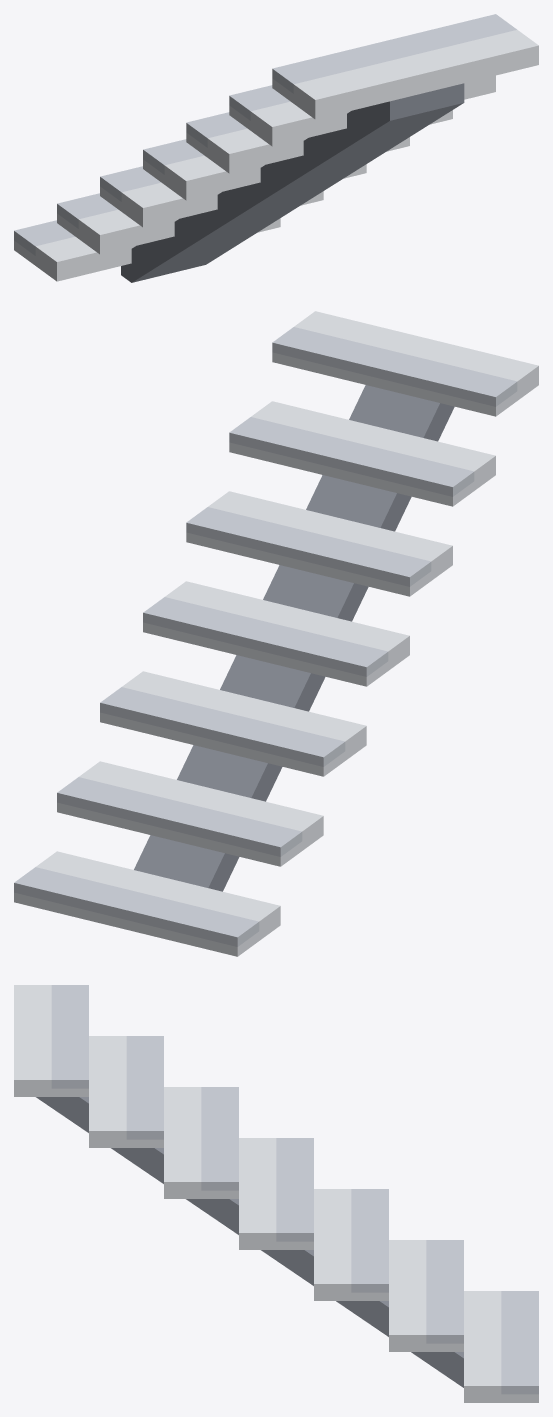
File: stairs.glb
The picture shows the model from 3 angles, top to bottom: view 1: azimuth 30°, elevation 25°; view 2: azimuth 150°, elevation 25°; view 3: azimuth 270°, elevation 25°; orthographic projection. The views are drawn at different scales.
Parts seen in each view (by area): view 1: stairs; view 2: stairs; view 3: stairs.
Part boxes in pixels (x1,y1,x2,y2): stairs: [14, 14, 538, 282]; stairs: [14, 311, 538, 956]; stairs: [14, 985, 538, 1402].
Size of the model in its own units: 0.3 by 0.5 by 0.7.
1 material, 1 textured.
